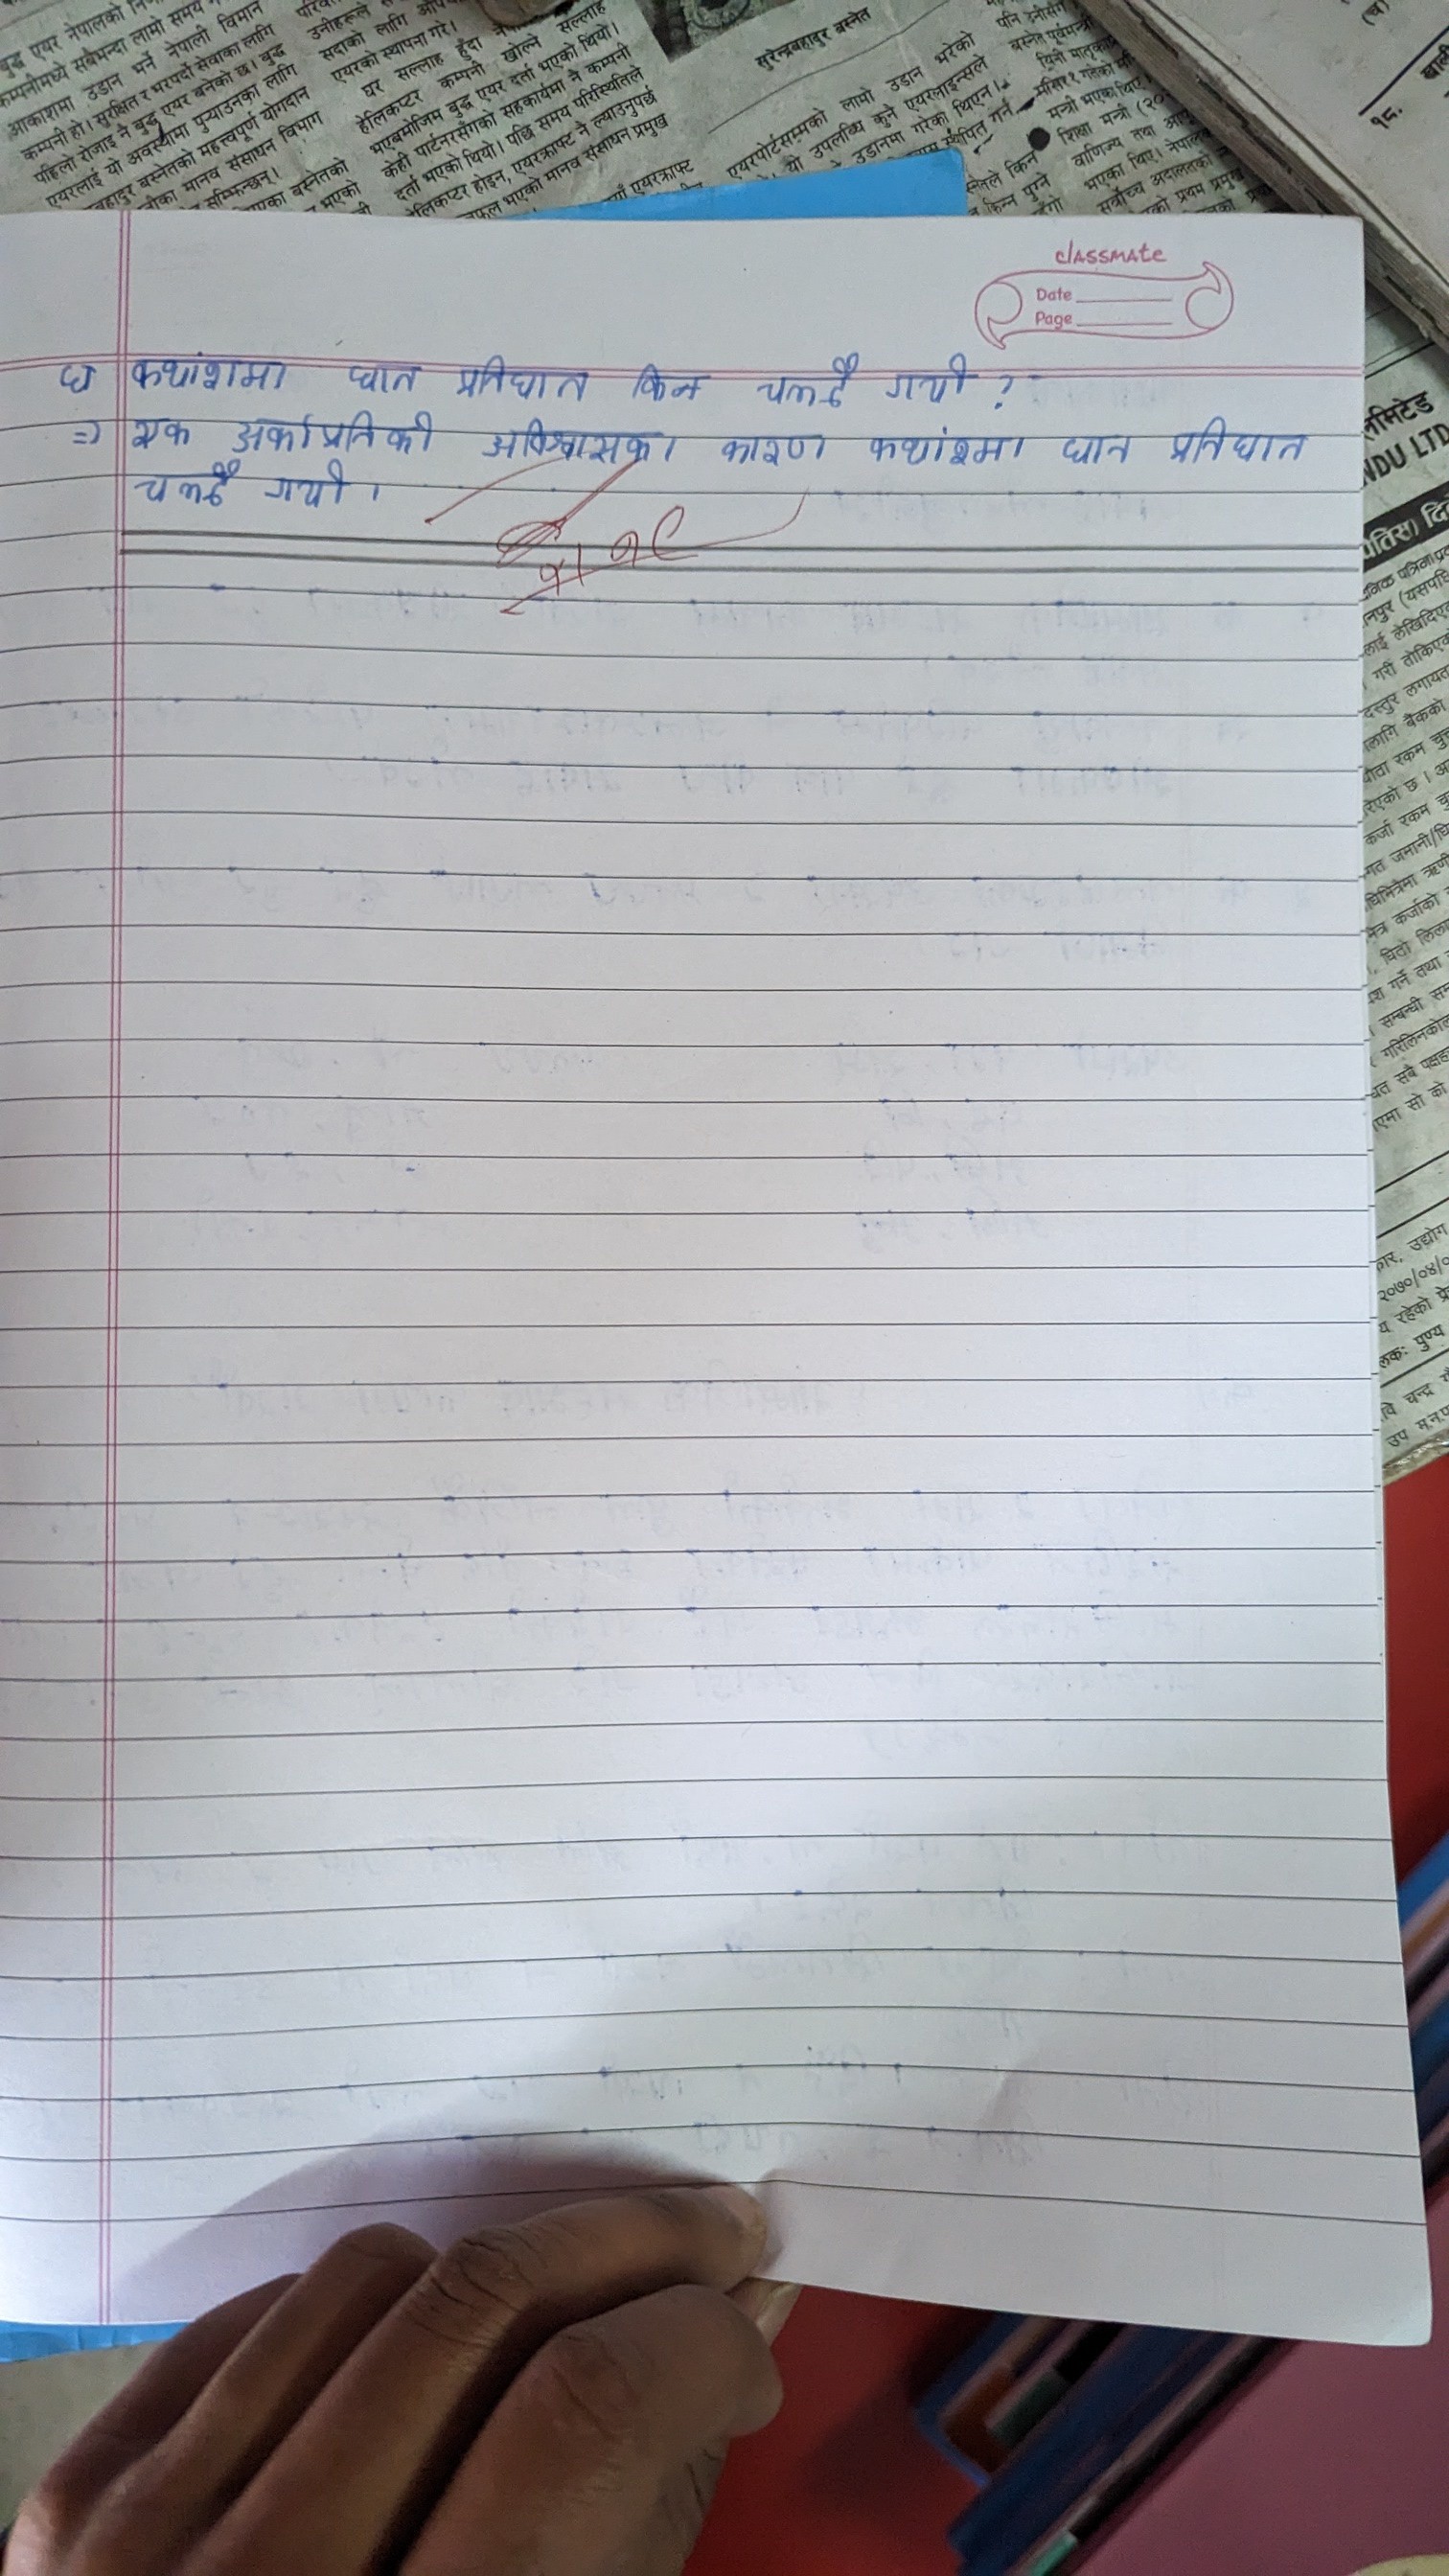text: (481, 419, 678, 469), (228, 410, 435, 456), (127, 345, 294, 400), (453, 352, 591, 409), (755, 350, 867, 416), (1164, 418, 1309, 467), (865, 425, 1028, 467), (129, 460, 244, 508), (269, 460, 361, 518), (885, 354, 977, 405), (628, 359, 718, 409), (718, 430, 830, 465), (345, 352, 428, 398), (1062, 428, 1139, 472), (127, 416, 198, 449), (57, 350, 99, 402)
